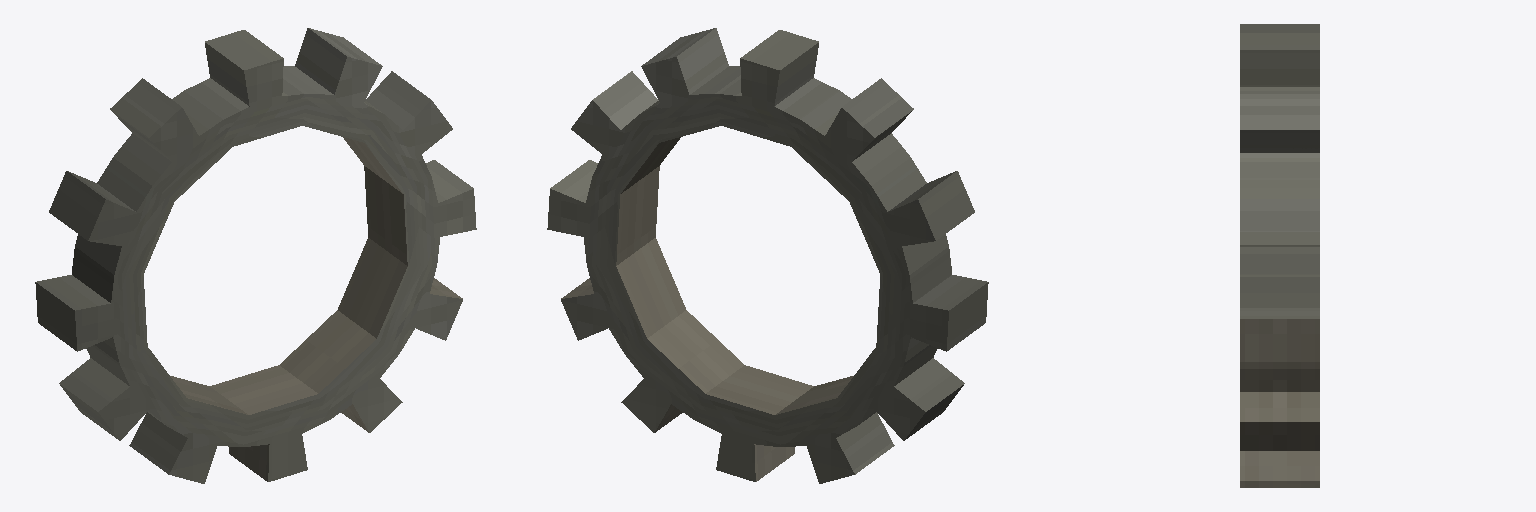
The picture shows the model from 3 angles: view 1: azimuth 30°, elevation 25°; view 2: azimuth 150°, elevation 25°; view 3: azimuth 270°, elevation 25°; orthographic projection.
Parts seen in each view (by area): view 1: middleGear; view 2: middleGear; view 3: middleGear.
Part boxes in pixels (left/top/right/bottom): middleGear: left=35, top=28, right=476, bottom=483; middleGear: left=547, top=28, right=988, bottom=483; middleGear: left=1240, top=24, right=1319, bottom=487.
Size of the model in its own units: 0.4223 by 0.4223 by 0.0719.
1 materials, 1 textured.